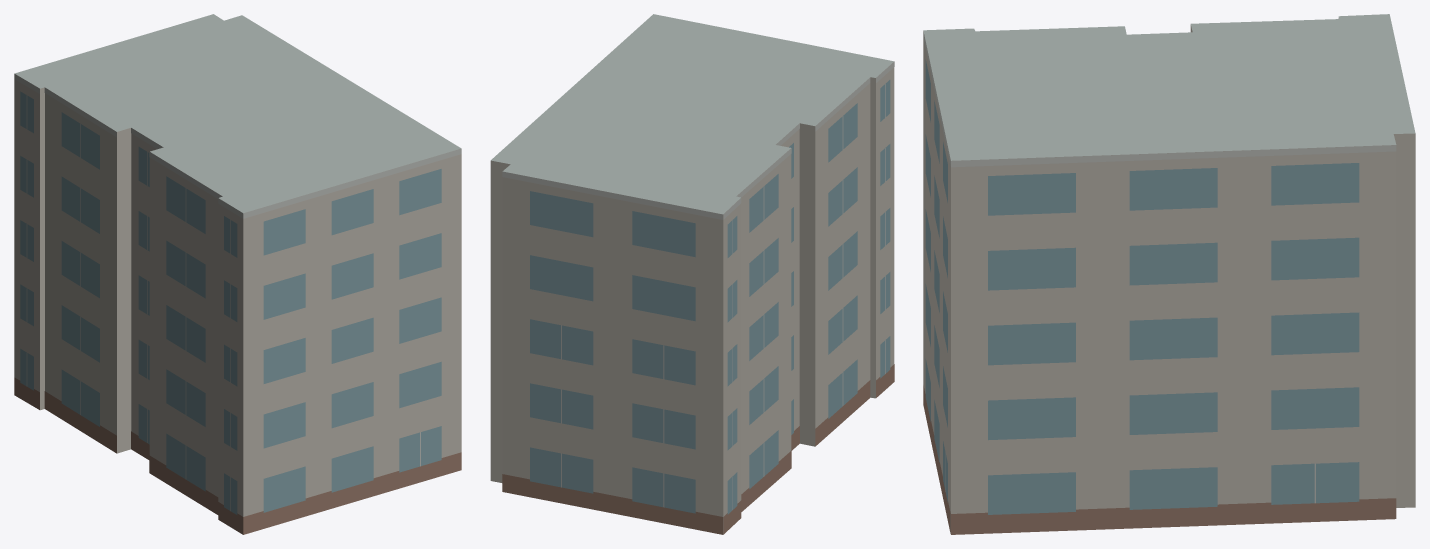
Rendered from survey-upis-32662910.glb.
3 renders of one model, left to right at view 1: azimuth 30°, elevation 25°; view 2: azimuth 150°, elevation 25°; view 3: azimuth 270°, elevation 25°, orthographic. The views are drawn at different scales.
Parts seen in each view (by area): view 1: survey-upis-32662910.tmp; view 2: survey-upis-32662910.tmp; view 3: survey-upis-32662910.tmp.
Boxes of the visible parts, x1,y1,x2,y2 form: survey-upis-32662910.tmp: (14, 14, 461, 534); survey-upis-32662910.tmp: (490, 14, 894, 534); survey-upis-32662910.tmp: (923, 14, 1415, 534).
Bounding box in the file's own units: 11.79 × 14 × 16.71.
